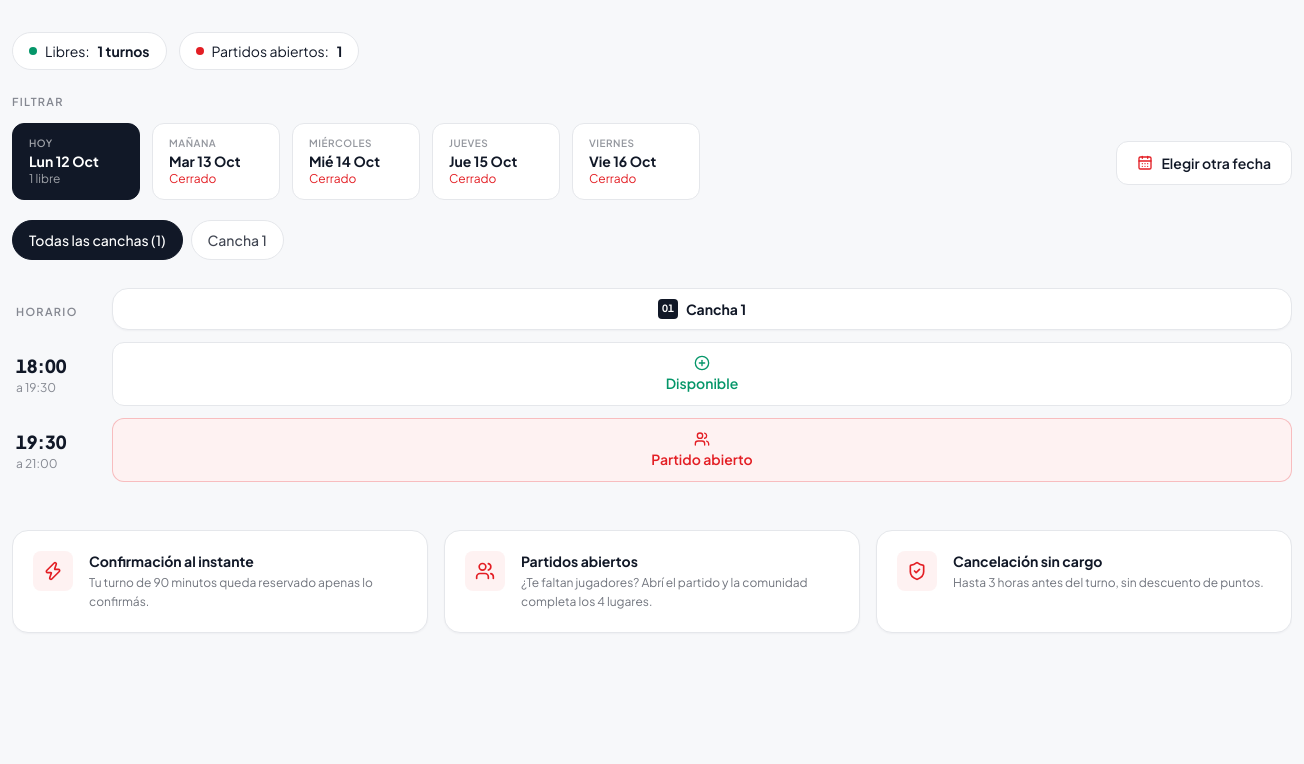
BookingsBoard › al volver a hacer click en el partido abierto elegido lo deselecciona en vez de ofrecer reservarlo
Click the button with aria-label "Cancha 1, 19:30, partido abierto" at point(702, 450), box [112,418,1292,482]
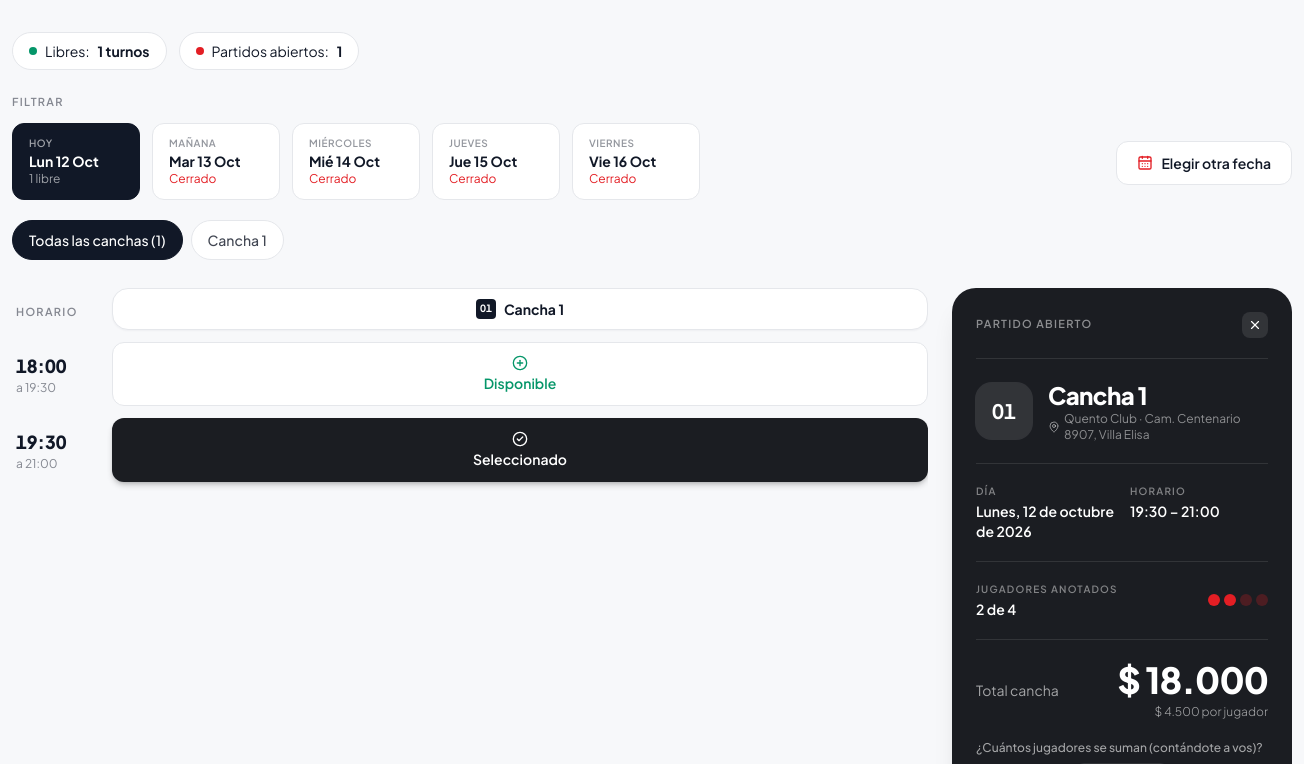
Click the button with aria-label "Cancha 1, 19:30, seleccionado" at point(520, 450), box [112,418,928,482]
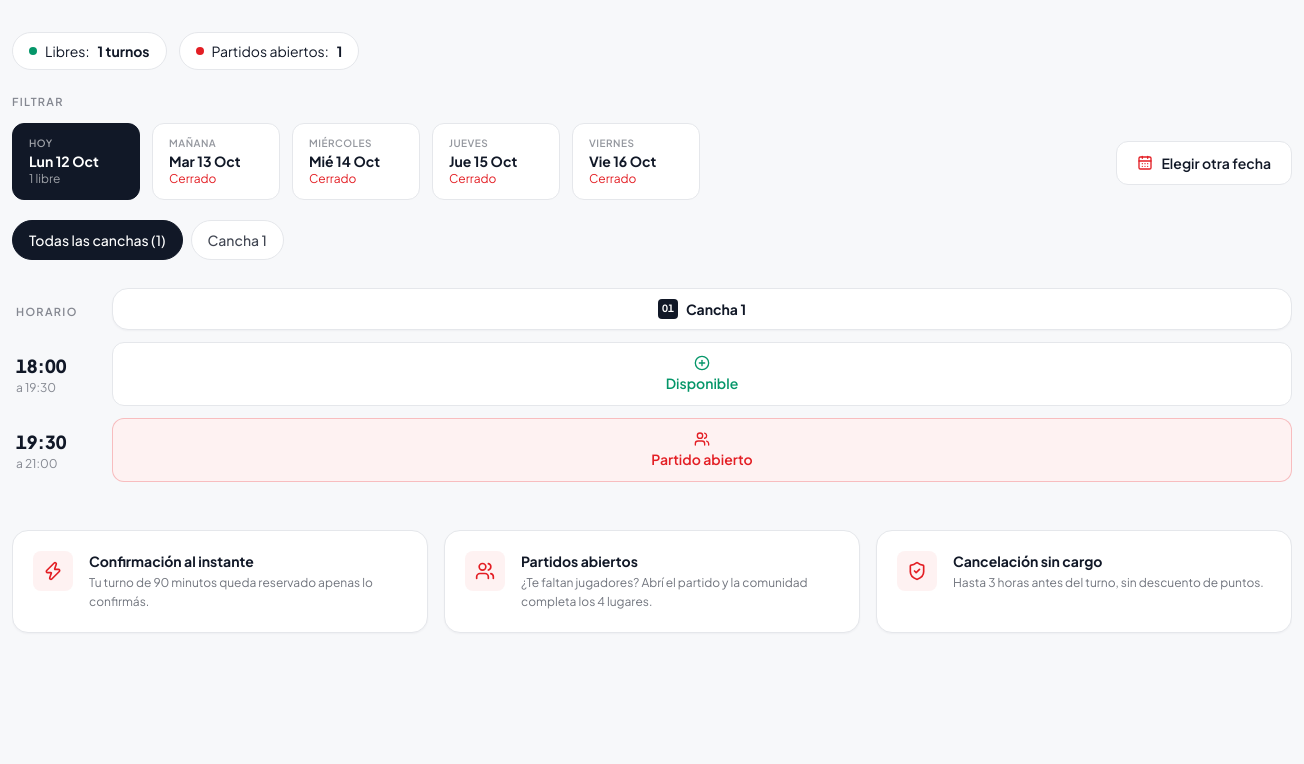
Check: the button with aria-label "Cancha 1, 19:30, partido abierto" is shown, box [112,418,1292,482]
